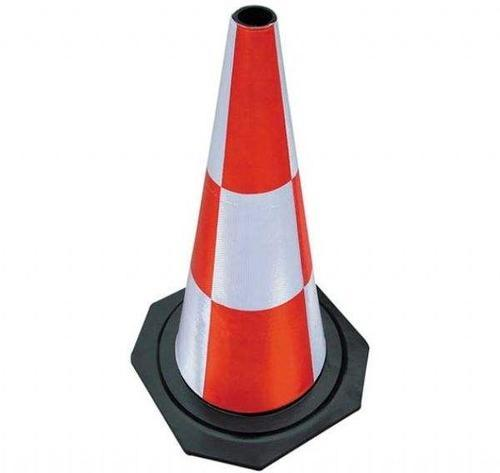cone_barrel: (162, 10, 337, 416)
